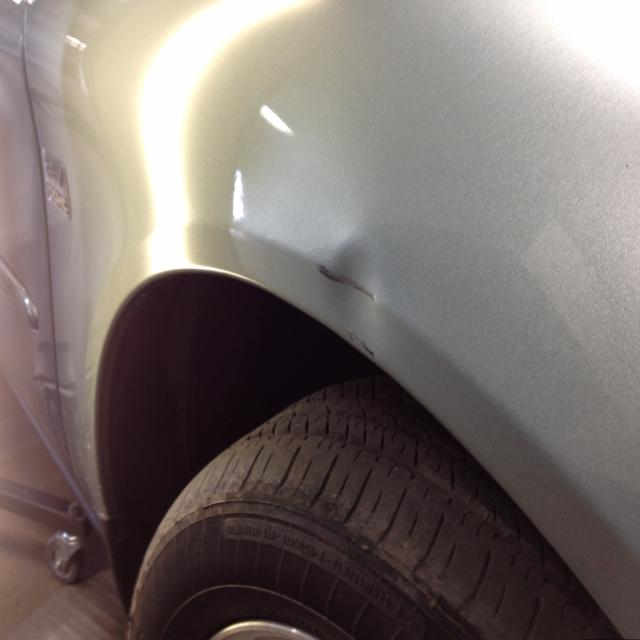dents: (318, 217, 395, 341)
